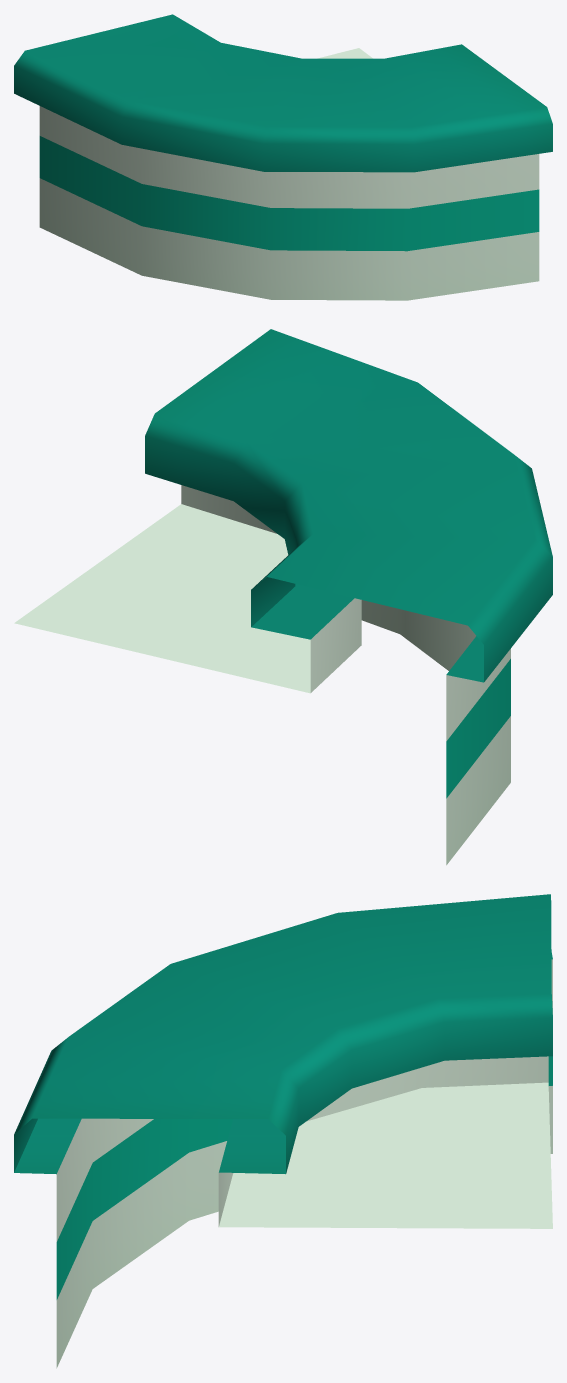
The model's file is Decor_Banbar_C_02.fbx.
3 views of the same model, one above another, from view 1: azimuth 30°, elevation 25°; view 2: azimuth 150°, elevation 25°; view 3: azimuth 270°, elevation 25° (orthographic). The views are drawn at different scales.
Parts seen in each view (by area): view 1: Decor_Banbar_C_02; view 2: Decor_Banbar_C_02; view 3: Decor_Banbar_C_02.
Boxes of the visible parts, box(x1,y1,x2,y2) form: Decor_Banbar_C_02: box(14, 14, 552, 300); Decor_Banbar_C_02: box(14, 329, 552, 865); Decor_Banbar_C_02: box(14, 894, 552, 1368).
Bounding box in the file's own units: 150 × 74.8 × 146.
